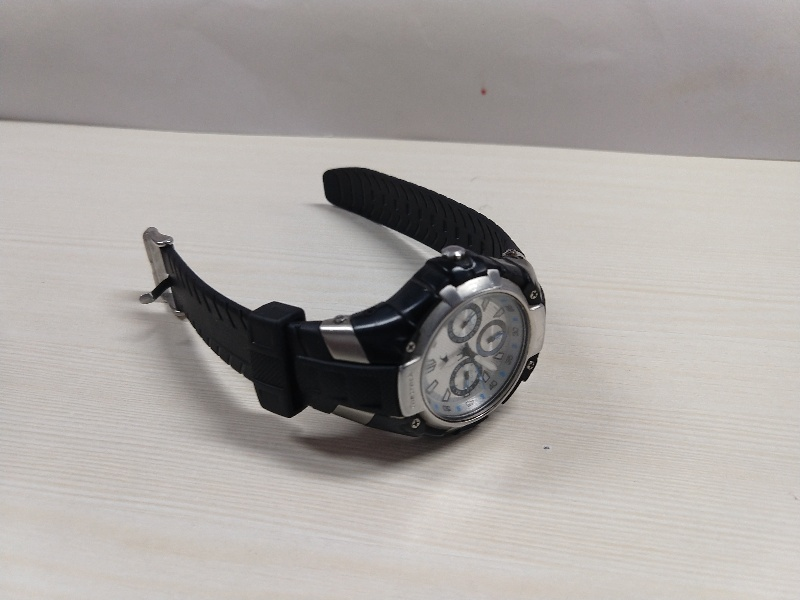watch: (131, 163, 567, 446)
